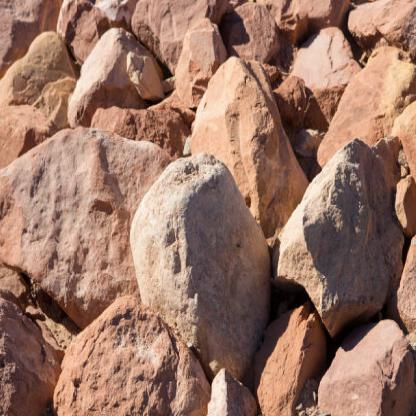Sedimentary_Limestone: (121, 145, 267, 371), (1, 107, 130, 312), (276, 139, 403, 332), (180, 53, 312, 232), (56, 291, 212, 415), (318, 314, 416, 415), (72, 22, 165, 124), (249, 304, 326, 415), (1, 285, 53, 415), (286, 21, 363, 106), (1, 32, 79, 106), (343, 2, 412, 59)
